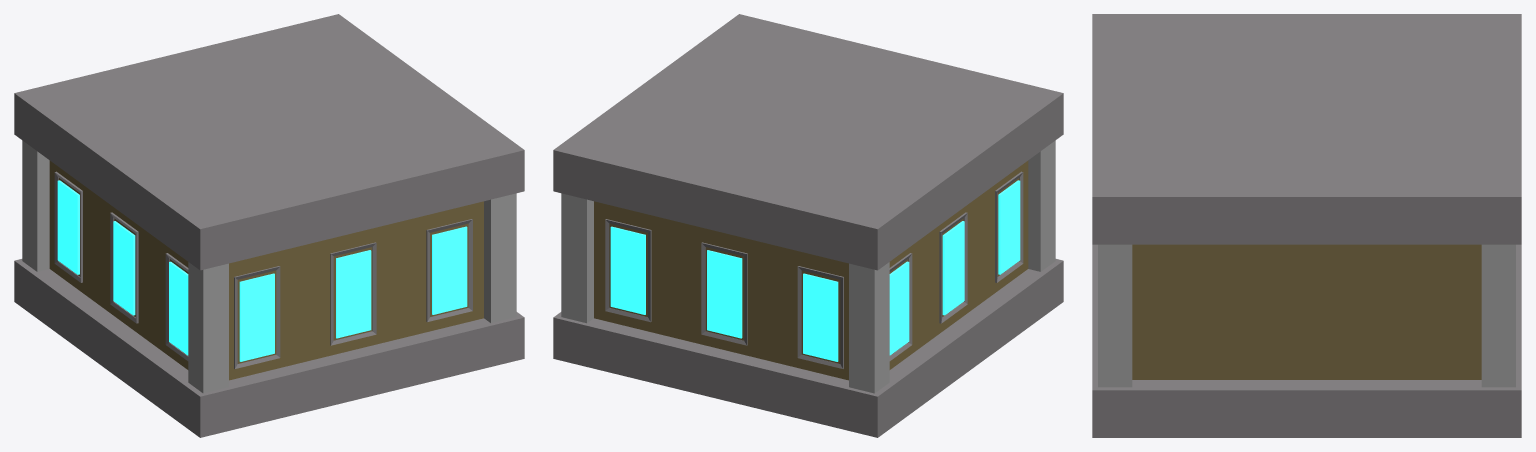
3 views of the same model, side by side, from view 1: azimuth 30°, elevation 25°; view 2: azimuth 150°, elevation 25°; view 3: azimuth 270°, elevation 25° (orthographic). The views are drawn at different scales.
Parts seen in each view (by area): view 1: Cube.014, Cube.002, Cube.013, Cube.016, Cube.004, Cube.005, Cube.006, Cube.015, Cube.017, Cube.010, Cube.012, Cube.011; view 2: Cube.014, Cube.002, Cube.013, Cube.017, Cube.003, Cube, Cube.001, Cube.018, Cube.016, Cube.010, Cube.011, Cube.012; view 3: Cube.014, Cube.002, Cube.013, Cube.015, Cube.018.
Part boxes in pixels (x1,y1,x2,y2): Cube.014: [14, 14, 524, 270]; Cube.002: [49, 160, 483, 380]; Cube.013: [14, 259, 524, 437]; Cube.016: [188, 262, 228, 393]; Cube.004: [330, 242, 376, 345]; Cube.005: [426, 219, 472, 322]; Cube.006: [234, 266, 280, 368]; Cube.015: [484, 193, 516, 323]; Cube.017: [22, 140, 49, 271]; Cube.010: [110, 212, 138, 323]; Cube.012: [54, 171, 82, 282]; Cube.011: [165, 253, 188, 360]; Cube.014: [553, 14, 1063, 270]; Cube.002: [594, 160, 1028, 380]; Cube.013: [553, 259, 1063, 437]; Cube.017: [849, 262, 889, 393]; Cube.003: [701, 242, 747, 345]; Cube: [605, 219, 651, 322]; Cube.001: [797, 266, 843, 368]; Cube.018: [561, 193, 593, 323]; Cube.016: [1028, 140, 1055, 271]; Cube.010: [939, 212, 967, 323]; Cube.011: [995, 171, 1023, 282]; Cube.012: [889, 253, 912, 360]; Cube.014: [1092, 14, 1521, 244]; Cube.002: [1132, 244, 1481, 379]; Cube.013: [1092, 244, 1521, 437]; Cube.015: [1098, 244, 1132, 387]; Cube.018: [1481, 244, 1515, 387].
Size of the model in its own units: 13.28 by 8.16 by 13.17.
